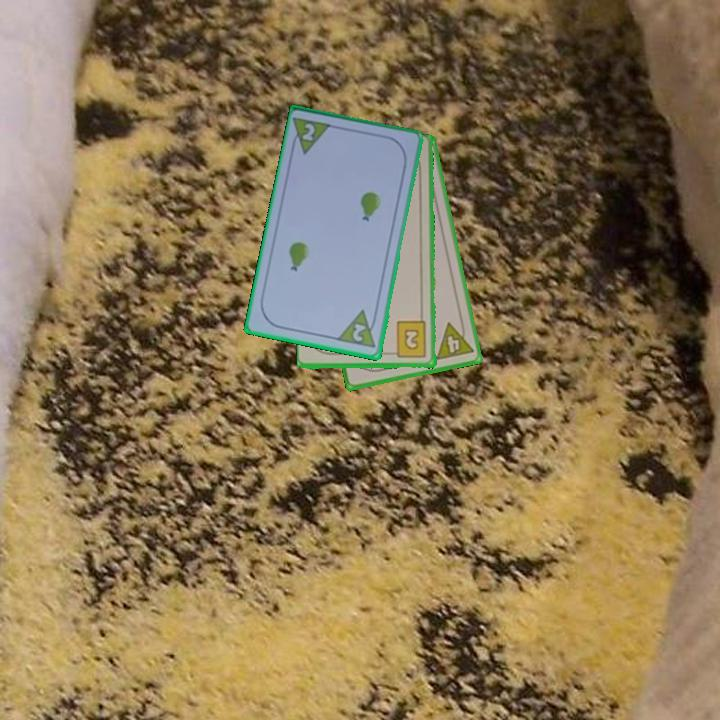2b: (387, 319, 429, 361)
2p: (334, 307, 380, 351), (298, 119, 318, 144)
4p: (432, 317, 476, 363)
